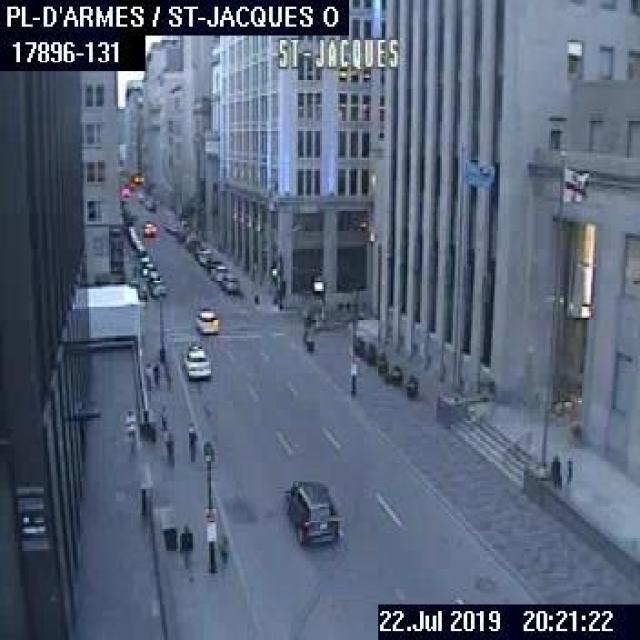pedestrian: (178, 520, 192, 564), (185, 420, 196, 460), (163, 428, 174, 464), (549, 454, 560, 487), (142, 359, 150, 387), (563, 455, 571, 482), (151, 360, 158, 382)
vehicle: (286, 476, 336, 544), (182, 344, 213, 378), (193, 307, 218, 333), (220, 273, 238, 292), (202, 256, 222, 271), (208, 264, 226, 280), (150, 278, 166, 296), (196, 247, 210, 263), (139, 261, 153, 275), (142, 222, 154, 236), (143, 197, 155, 209)
